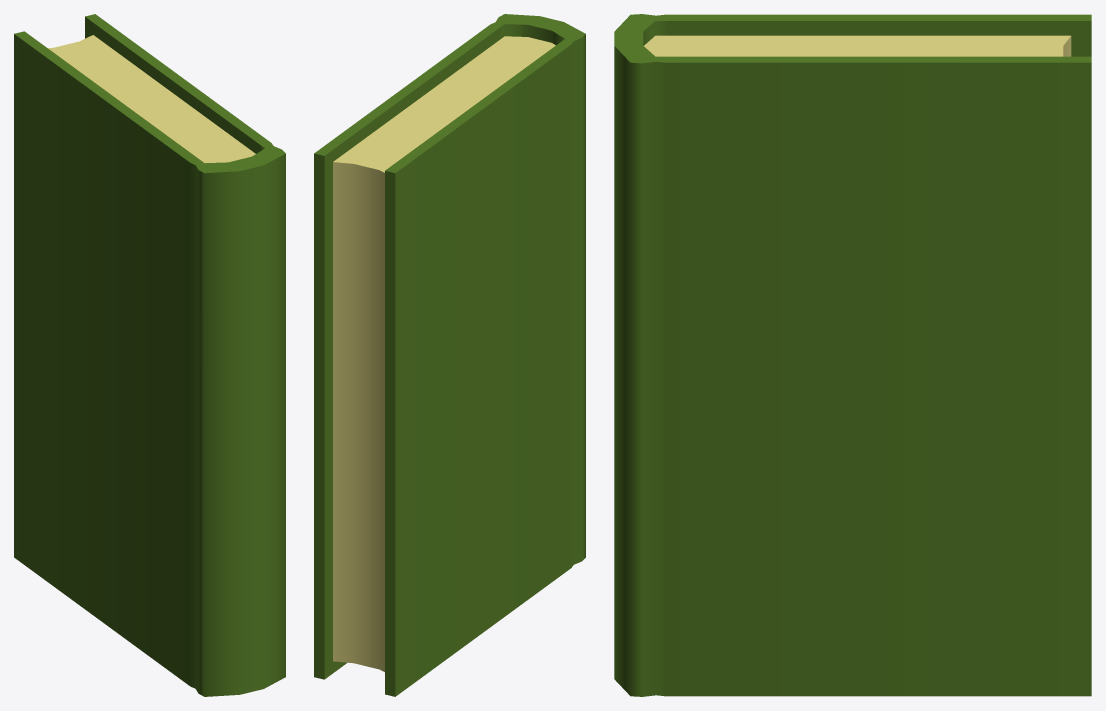
File: book_green.fbx
The picture shows the model from 3 angles, left to right: view 1: azimuth 30°, elevation 25°; view 2: azimuth 150°, elevation 25°; view 3: azimuth 270°, elevation 25°; orthographic projection. The views are drawn at different scales.
Parts seen in each view (by area): view 1: Book_Small_Green; view 2: Book_Small_Green; view 3: Book_Small_Green.
Part boxes in pixels (x1=…): Book_Small_Green: x1=14, y1=14, x2=285, y2=696; Book_Small_Green: x1=314, y1=14, x2=585, y2=696; Book_Small_Green: x1=614, y1=14, x2=1091, y2=696.
Bounding box in the file's own units: 6.3 × 37.64 × 25.69.
